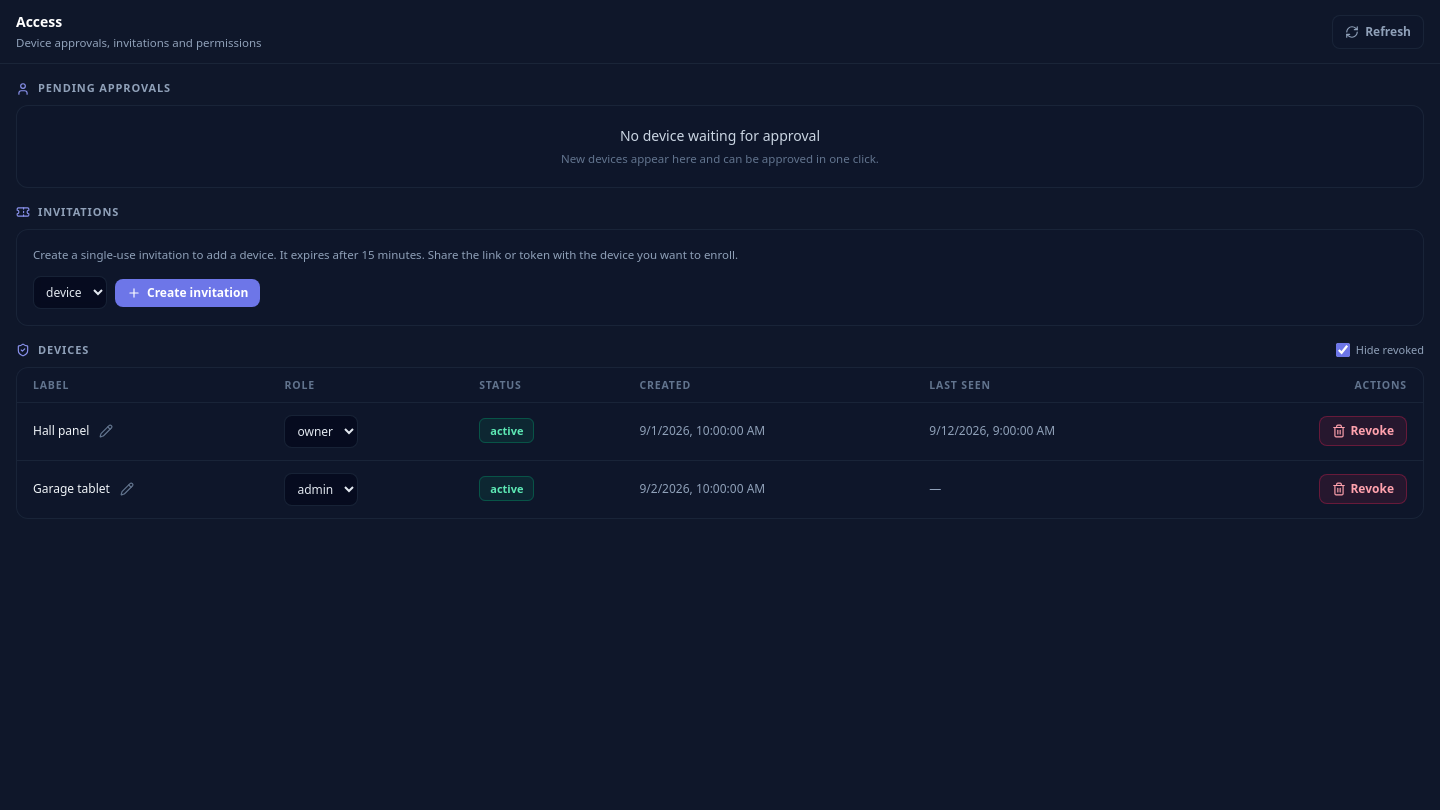
Test: AuthPanel › hides revoked devices by default and reveals them when toggled
Check: the text "Hall panel" is shown, box [33,423,89,439]
Check: the text "Old phone" is not shown
Step 1. Click the checkbox labelled "Hide revoked" → click(1343, 350), box [1336,343,1350,357]
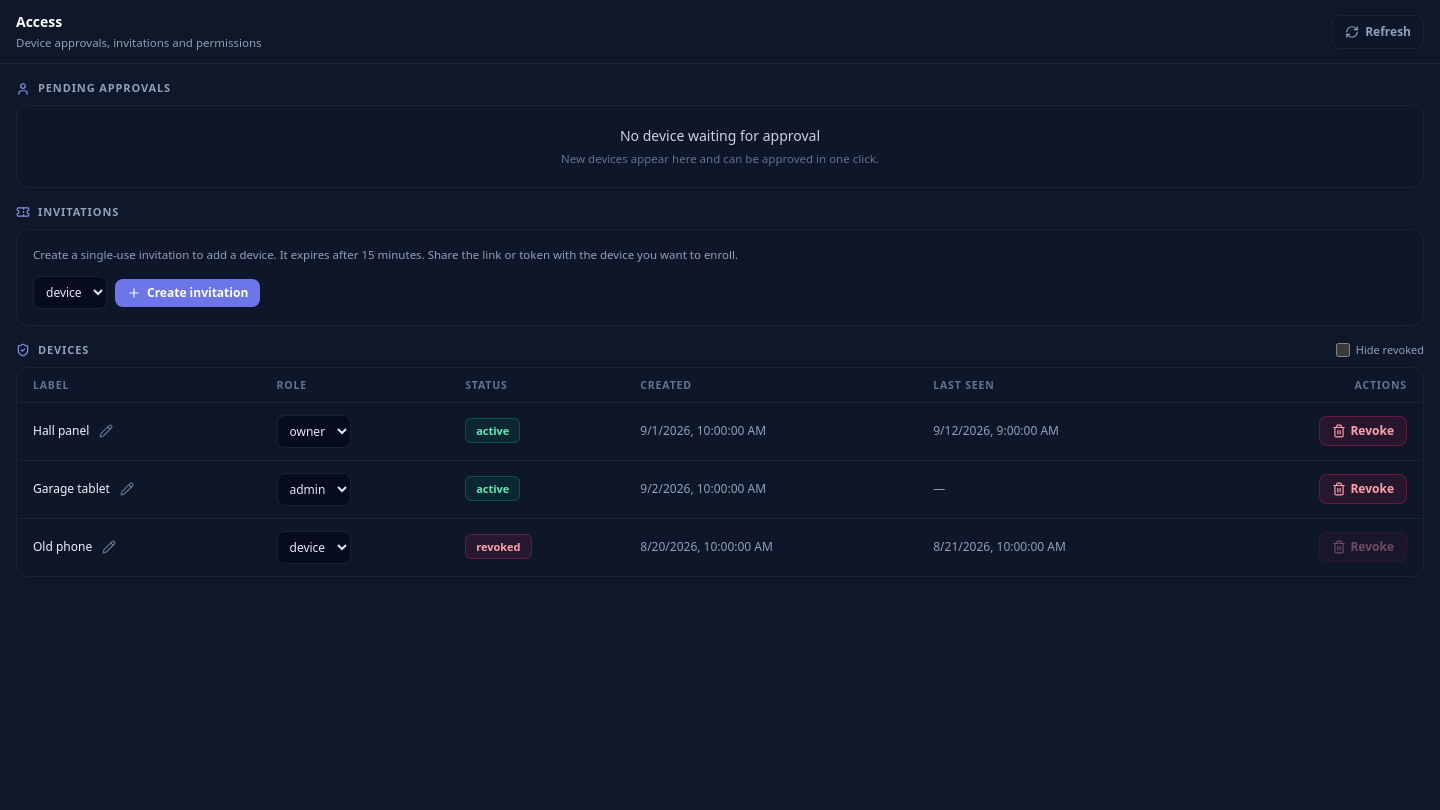
Check: the text "Old phone" is shown, box [33,539,92,555]
